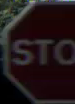Stop: (5, 18, 68, 90)
